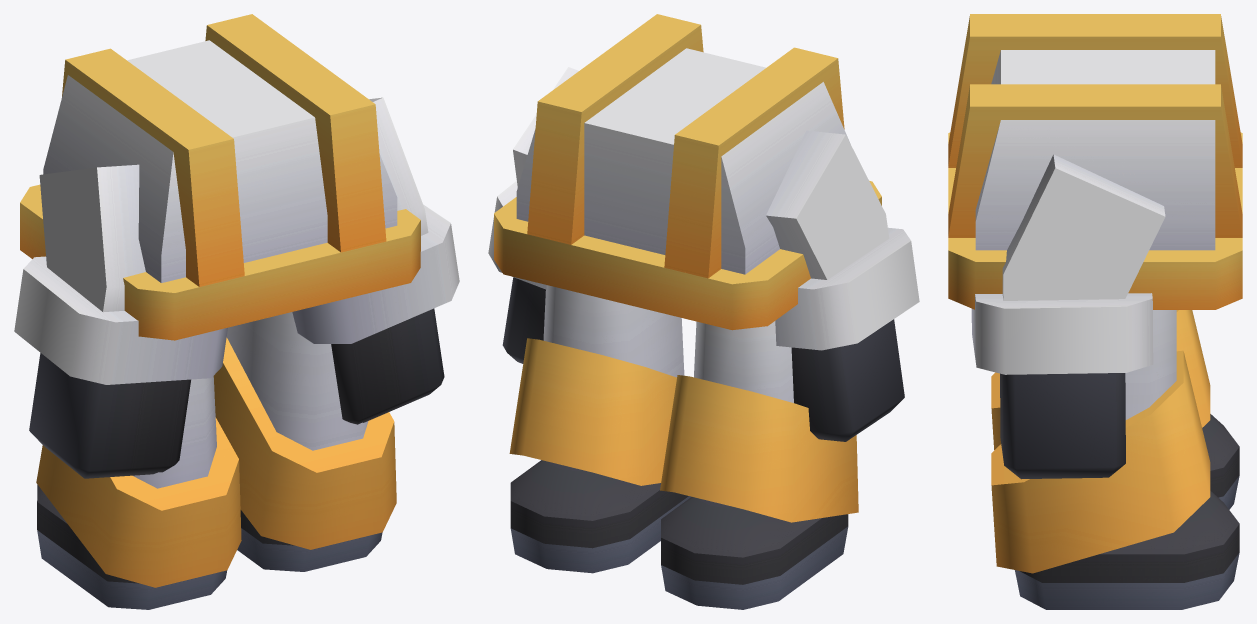
Rendered from mini-male-e.glb.
The picture shows the model from 3 angles, left to right: view 1: azimuth 30°, elevation 25°; view 2: azimuth 150°, elevation 25°; view 3: azimuth 270°, elevation 25°; orthographic projection. The views are drawn at different scales.
Parts seen in each view (by area): view 1: body-mesh; view 2: body-mesh; view 3: body-mesh.
Boxes of the visible parts, bbox=[...] form: body-mesh: bbox=[14, 14, 459, 609]; body-mesh: bbox=[488, 14, 919, 609]; body-mesh: bbox=[948, 14, 1242, 609].
Bounding box in the file's own units: 1.2 × 1.4 × 0.7733.
1 material, 1 textured.
